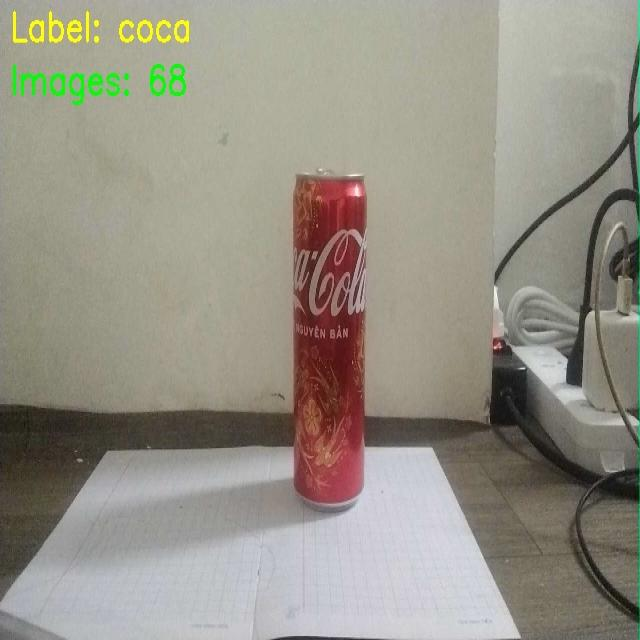Coca: (270, 159, 400, 509)
